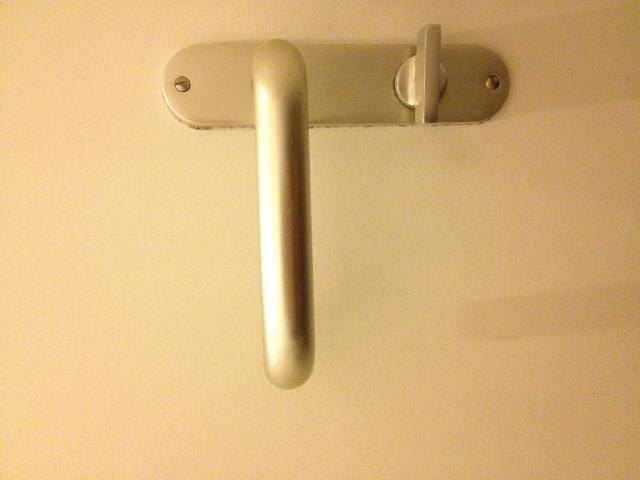Door-handle: (162, 23, 512, 391)
